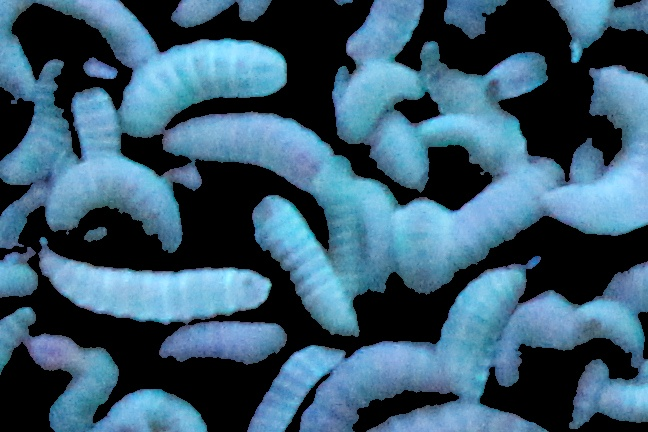larvae: (38, 242, 275, 326), (119, 27, 295, 136), (249, 192, 364, 342), (34, 150, 188, 258), (153, 104, 340, 190), (553, 62, 648, 231), (314, 341, 463, 432), (424, 261, 512, 400), (445, 157, 561, 253), (402, 105, 535, 182), (17, 1, 155, 66), (1, 63, 74, 184), (333, 58, 425, 144), (352, 165, 400, 307), (251, 344, 327, 432), (395, 193, 454, 295), (146, 329, 291, 367), (340, 3, 425, 62), (558, 301, 642, 357), (72, 79, 129, 158), (1, 1, 35, 121)
